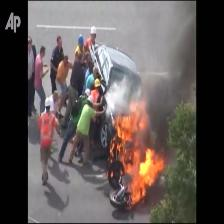fire: (109, 97, 164, 203)
